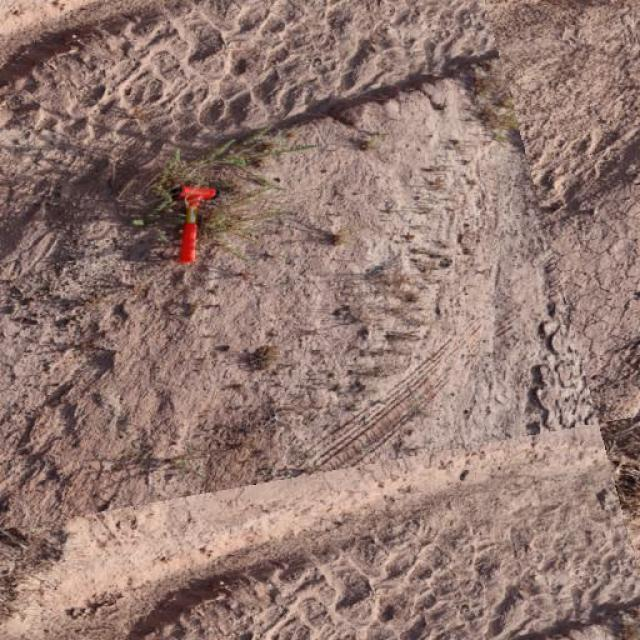mallet: (172, 182, 216, 264)
